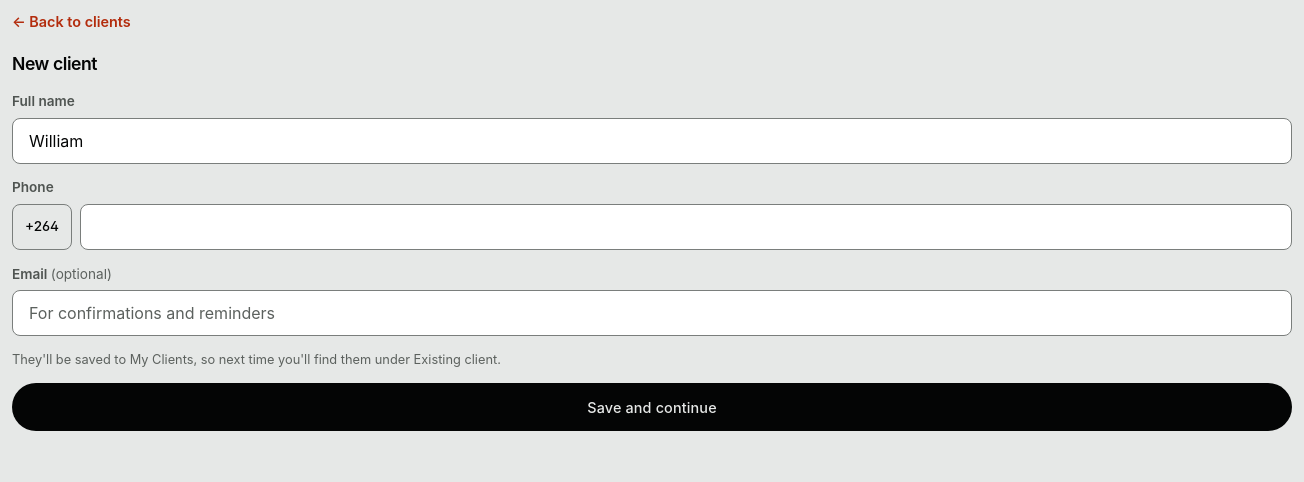
Scenario: NewClientForm › needs a full name and a phone number
This screenshot has width=1304, height=482.
Click the button with test id "new-client-save" at [652, 407], box top-left (12, 383), bottom-right (1292, 431)
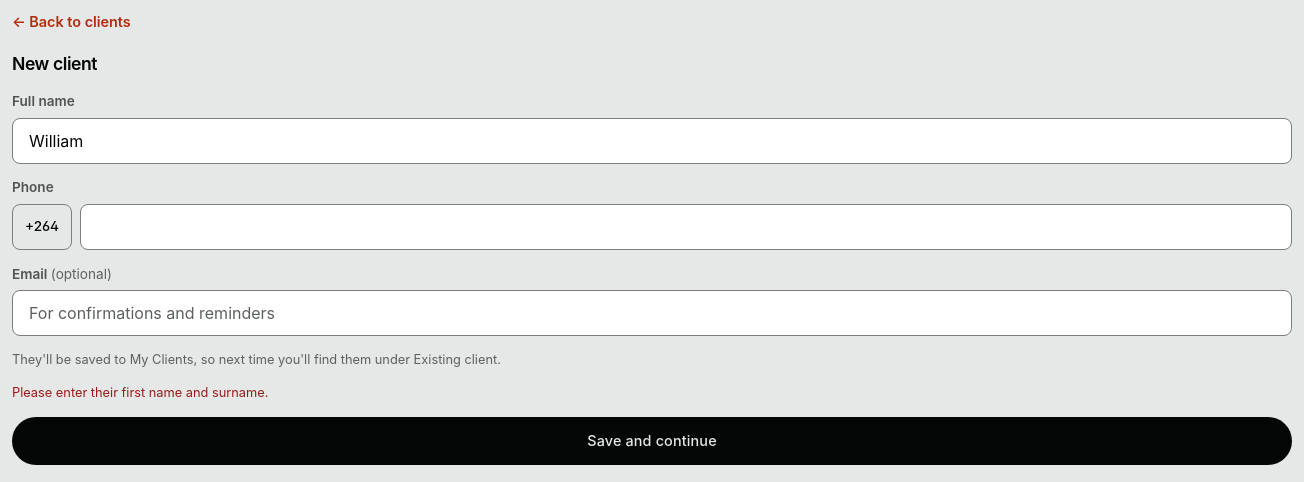
Check: the message shows "first name and surname", box top-left (12, 385), bottom-right (268, 400)
Replace the text in the field with test id "new-client-name" with "William Rittmann" at [652, 141], box top-left (12, 118), bottom-right (1292, 164)
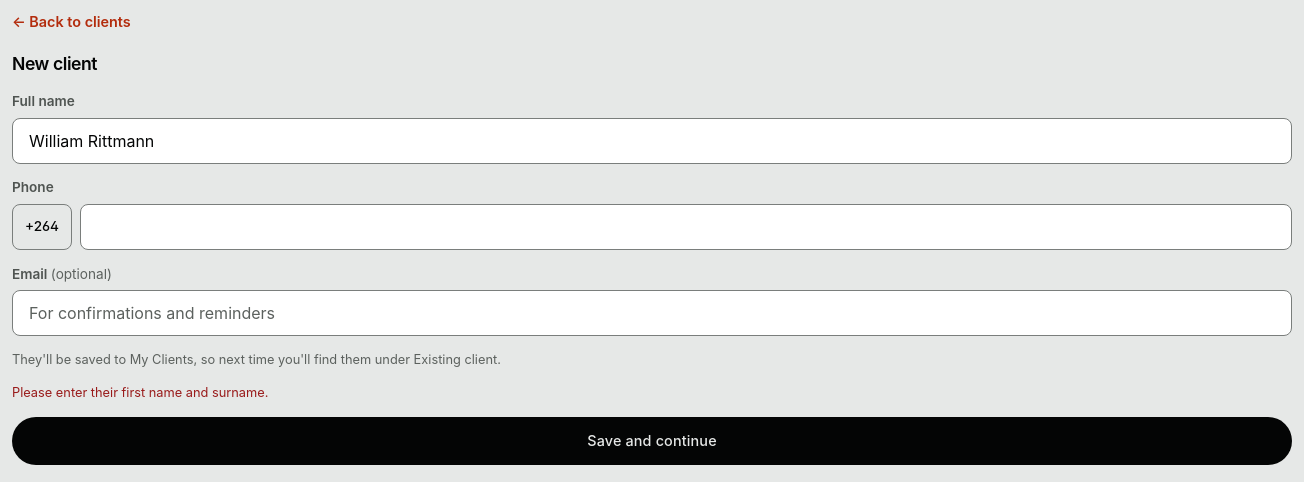
Click the button with test id "new-client-save" at [652, 441], box top-left (12, 417), bottom-right (1292, 465)
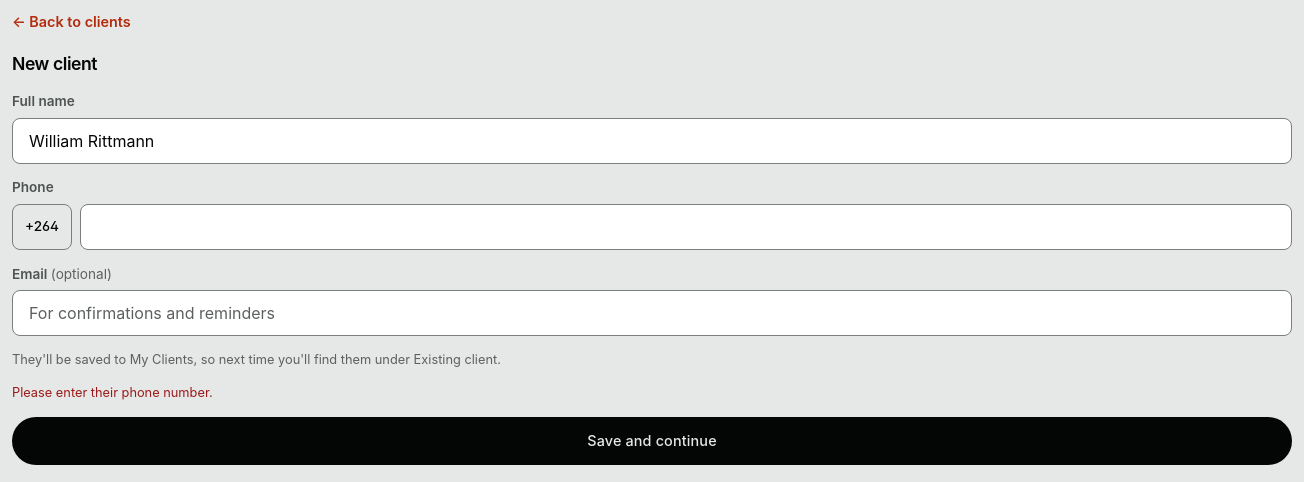
Check: the message shows "phone number", box top-left (12, 385), bottom-right (213, 400)
